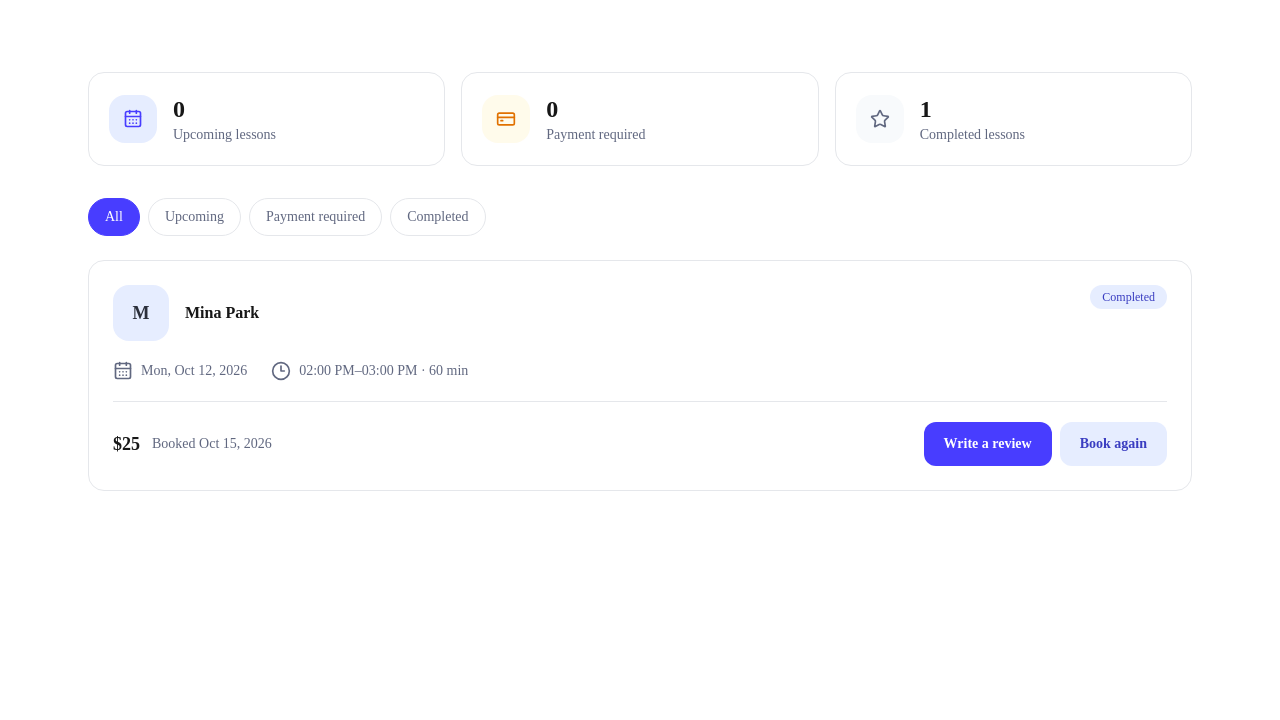
Test: submits a review for a completed lesson
The image size is (1280, 720).
Step 1. Click the button "Write a review" → [988, 444], box [924,422,1052,466]
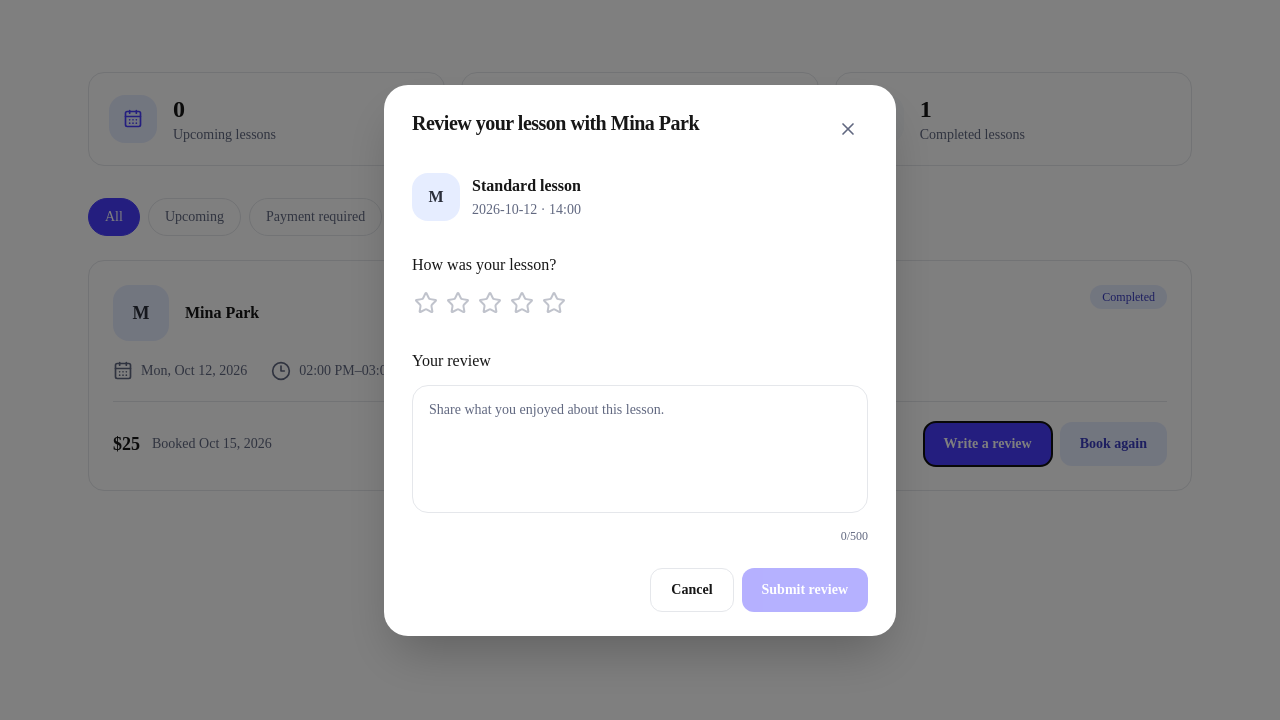
Step 2. Click the button named "Rate 5 stars" → [554, 302], box [540,288,568,316]
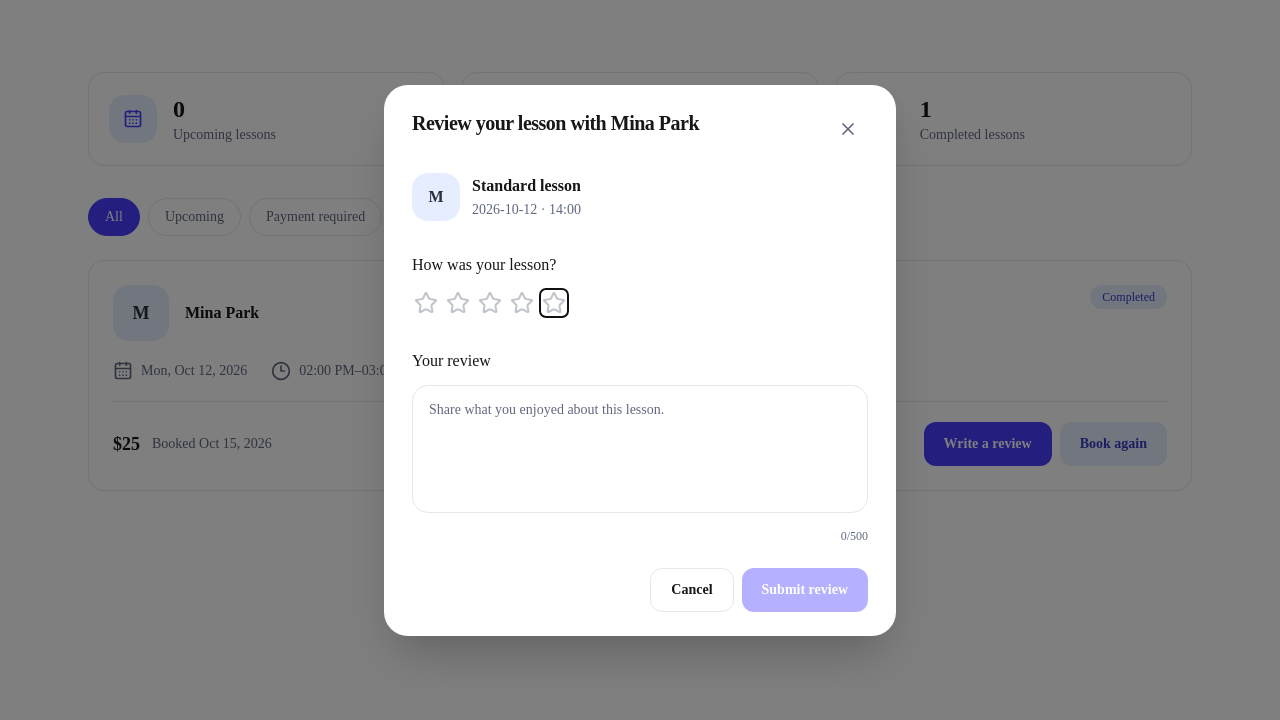
Step 3. Type "The lesson was clear and encouraging." into the text box labelled "Your review" → [640, 448], box [412,384,868,512]
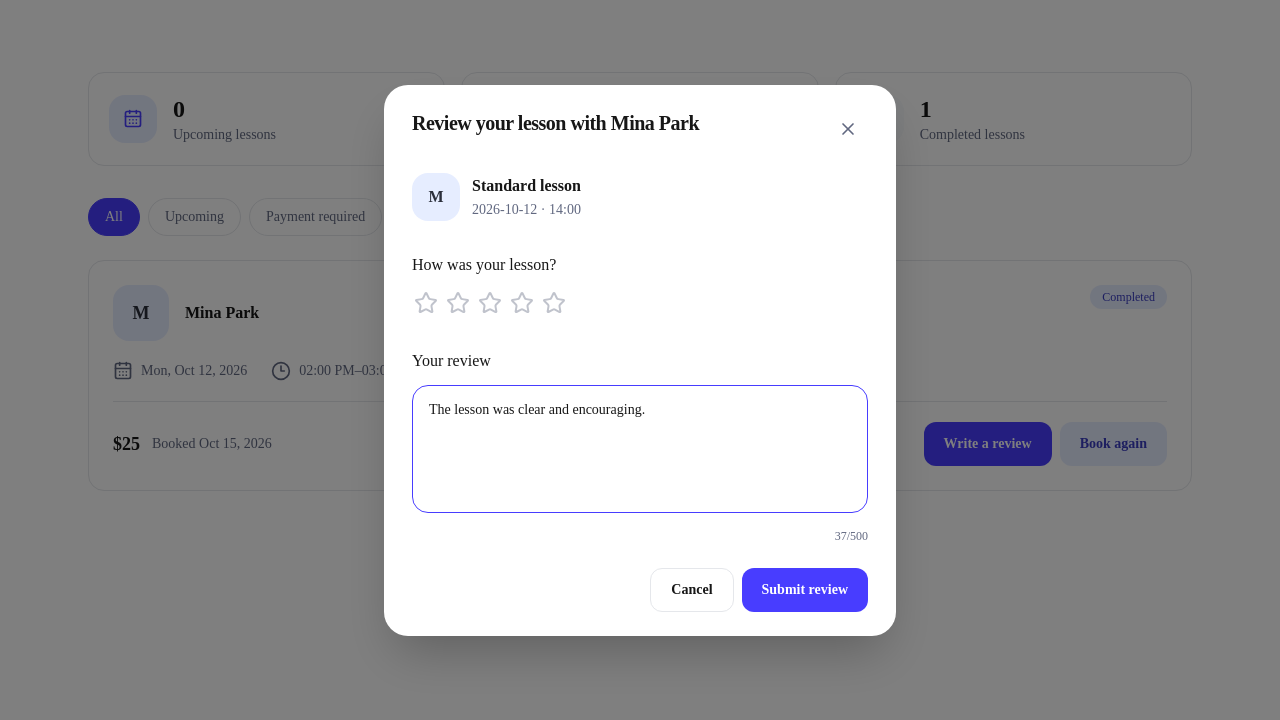
Step 4. Click the button "Submit review" → [805, 590], box [742,568,868,612]
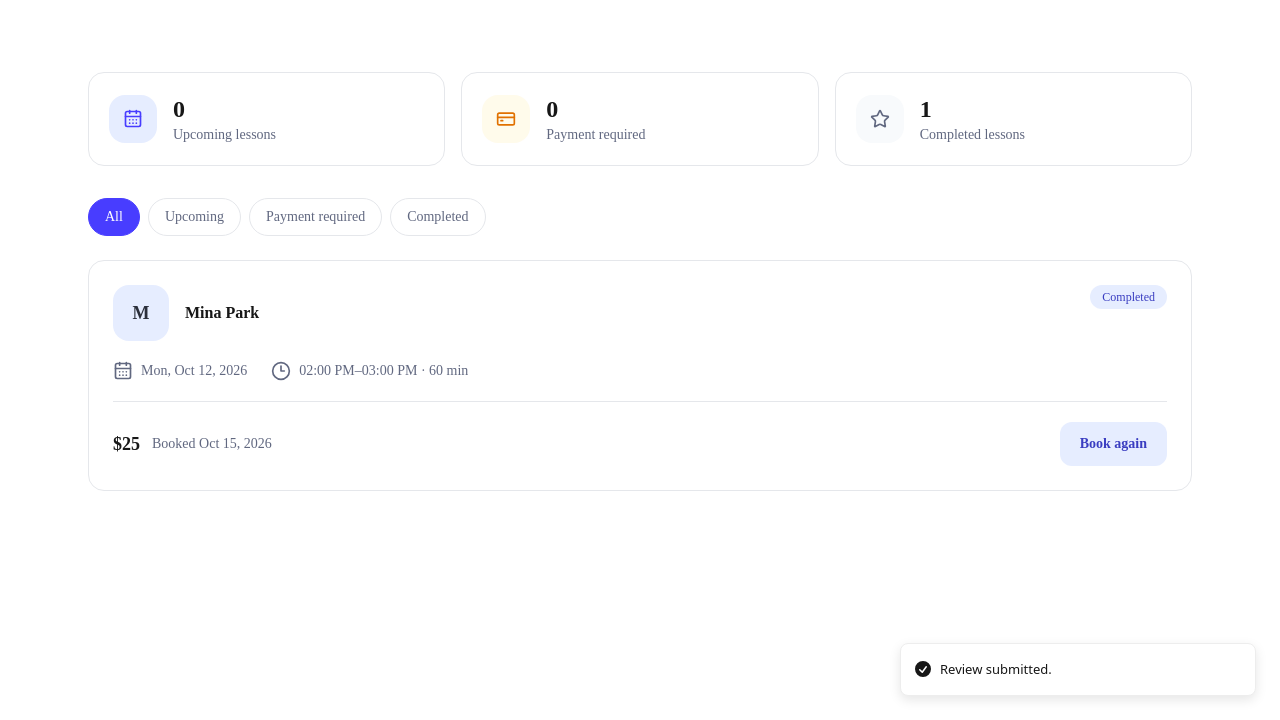
Expected: the text "Review submitted." is shown, [940,660,1052,679]
Expected: the dialog is gone
Expected: the button "Write a review" is gone
